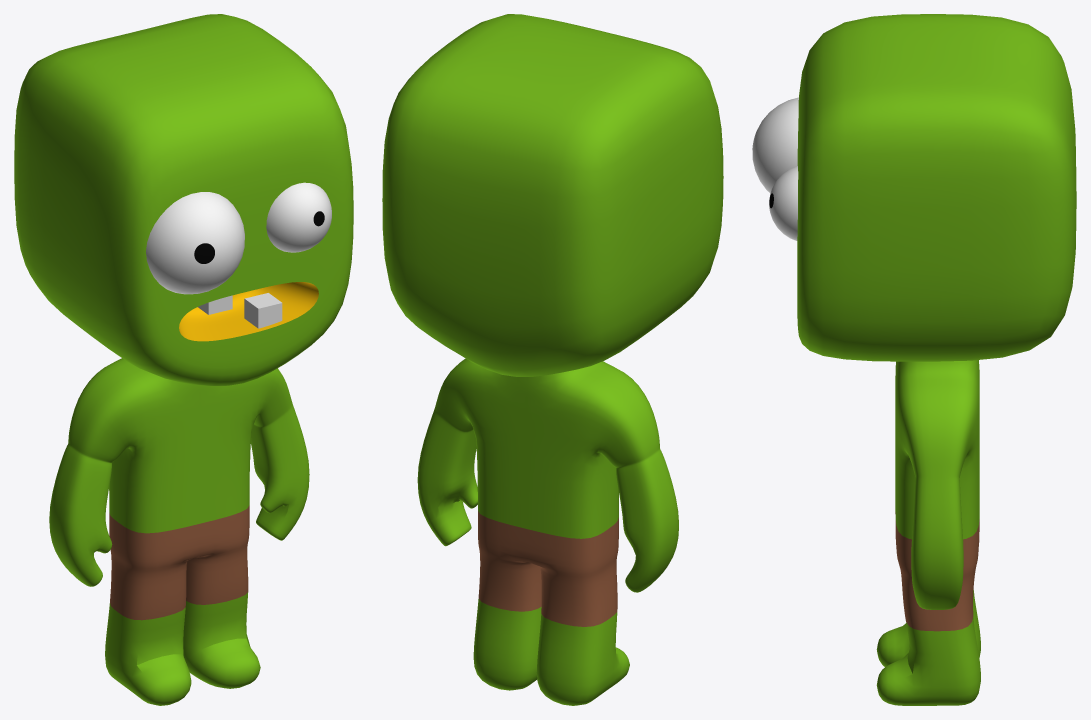
Rendered from Mini Zombi.fbx.
The picture shows the model from 3 angles, left to right: view 1: azimuth 30°, elevation 25°; view 2: azimuth 150°, elevation 25°; view 3: azimuth 270°, elevation 25°; orthographic projection.
Parts seen in each view (by area): view 1: Cap Referencia.011, Cos Referencia.001, Sphere.002, Sphere.003, Cube.005; view 2: Cap Referencia.011, Cos Referencia.001; view 3: Cap Referencia.011, Cos Referencia.001, Sphere.002, Sphere.003.
Boxes of the visible parts, x1,y1,x2,y2 form: Cap Referencia.011: (14, 14, 353, 386); Cos Referencia.001: (49, 358, 309, 705); Sphere.002: (146, 192, 244, 294); Sphere.003: (266, 182, 331, 252); Cube.005: (244, 293, 282, 328); Cap Referencia.011: (382, 14, 723, 376); Cos Referencia.001: (417, 358, 678, 705); Cap Referencia.011: (797, 14, 1076, 361); Cos Referencia.001: (876, 360, 980, 705); Sphere.002: (752, 97, 798, 193); Sphere.003: (769, 166, 798, 240).
Bounding box in the file's own units: 2.04 × 4.97 × 2.31.
